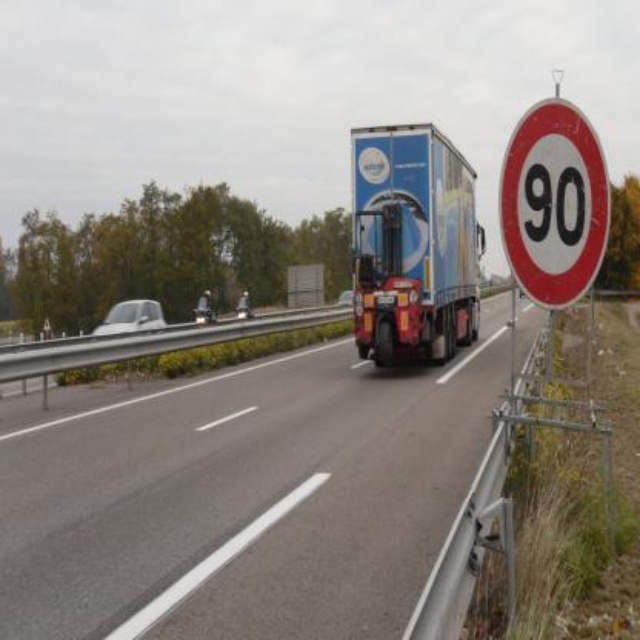Tốc độ tối đa cho phép 90km/h: (499, 103, 605, 308)
